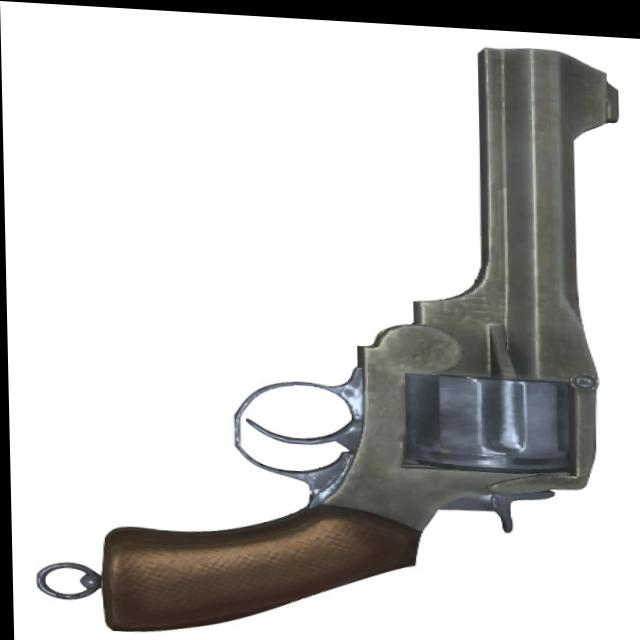handgun: (56, 25, 634, 640)
